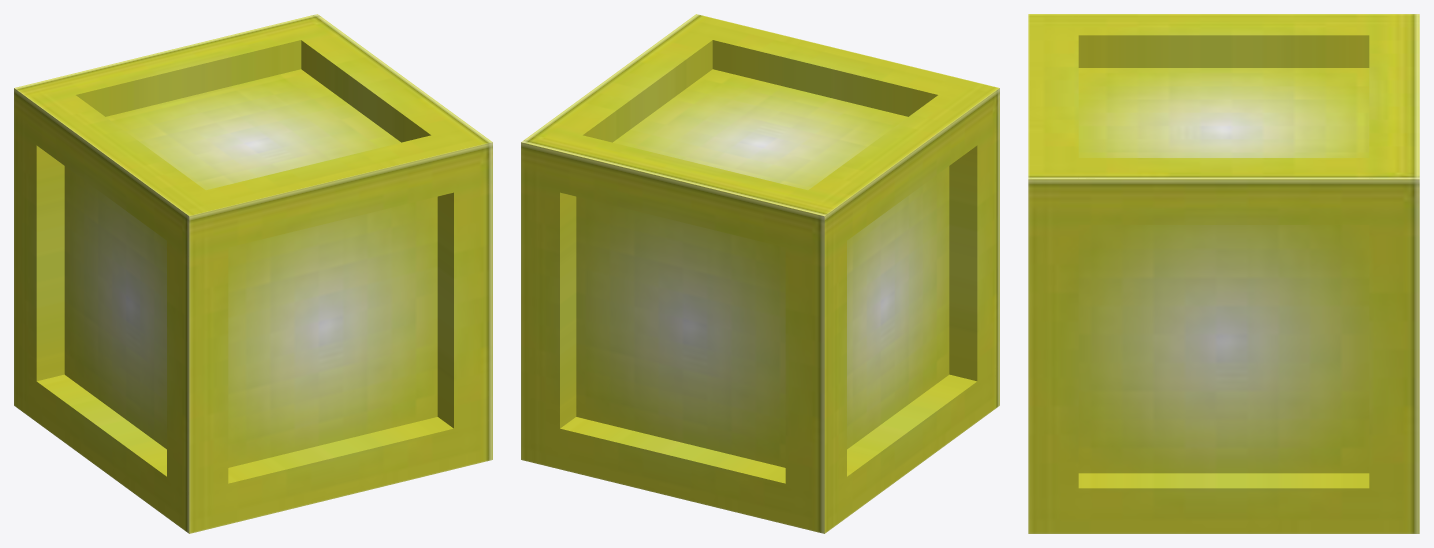
File: yellow_box.FBX
3 views of the same model, side by side, from view 1: azimuth 30°, elevation 25°; view 2: azimuth 150°, elevation 25°; view 3: azimuth 270°, elevation 25° (orthographic). The views are drawn at different scales.
Visible parts, largest first — view 1: Box02; view 2: Box02; view 3: Box02.
Boxes of the visible parts, <box> form: Box02: <box>14,14,492,533</box>; Box02: <box>521,14,999,533</box>; Box02: <box>1028,14,1419,533</box>.
Bounding box in the file's own units: 25 × 25 × 25.
Materials: 1 (1 with a texture image).
